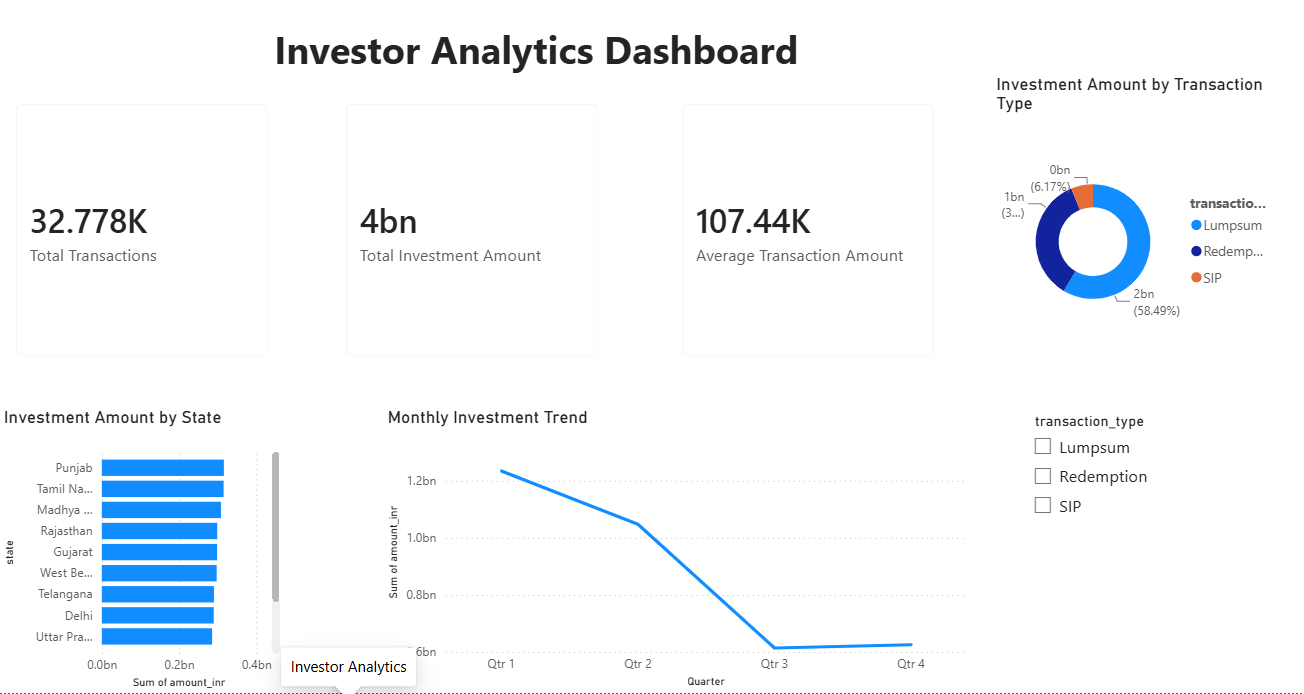

Layout of this report page (visuals, bound fields, positions):
{"tool":"powerbi","page":{"name":"Investor Analytics","canvas":[1280,720],"ordinal":2},"visuals":[{"type":"cardVisual","fields":{"Data":["CountNonNull(08_investor_transactions.amount_inr)"]},"box":[0,127.7,280,280],"z":0},{"type":"cardVisual","fields":{"Data":["Sum(08_investor_transactions.amount_inr)"]},"box":[323.1,127.7,280,280],"z":1000},{"type":"cardVisual","fields":{"Data":["Avg(08_investor_transactions.amount_inr)"]},"box":[652.2,127.7,280,280],"z":2000},{"type":"donutChart","title":"Investment Amount by Transaction Type","fields":{"Category":["08_investor_transactions.transaction_type"],"Y":["Sum(08_investor_transactions.amount_inr)"]},"box":[970.7,114.2,280,280],"z":3000},{"type":"clusteredBarChart","title":"Investment Amount by State","fields":{"Category":["08_investor_transactions.state"],"Y":["Sum(08_investor_transactions.amount_inr)"]},"box":[0,440.3,280,280],"z":4000},{"type":"lineChart","title":"Monthly Investment Trend","fields":{"Y":["Sum(08_investor_transactions.amount_inr)"],"Category":["08_investor_transactions.transaction_date.Variation.Date Hierarchy.Year","08_investor_transactions.transaction_date.Variation.Date Hierarchy.Quarter","08_investor_transactions.transaction_date.Variation.Date Hierarchy.Month","08_investor_transactions.transaction_date.Variation.Date Hierarchy.Day"]},"box":[375.7,440.3,575.5,279.5],"z":5000},{"type":"slicer","fields":{"Values":["08_investor_transactions.transaction_type"]},"box":[1000.8,440.3,280,280],"z":6000},{"type":"textbox","box":[100.7,60.1,850.5,67.6],"z":7000}]}

Visuals, with their boxes on the page's 1280x720 design canvas (x1, y1, x2, y2). These are canvas units, not pixel positions in the 1304x694 screenshot, which may show the page scaled, cropped or inside an application window:
cardVisual - CountNonNull(08_investor_transactions.amount_inr): box=[0, 128, 280, 408]
cardVisual - Sum(08_investor_transactions.amount_inr): box=[323, 128, 603, 408]
cardVisual - Avg(08_investor_transactions.amount_inr): box=[652, 128, 932, 408]
"Investment Amount by Transaction Type" donutChart: box=[971, 114, 1251, 394]
"Investment Amount by State" clusteredBarChart: box=[0, 440, 280, 720]
"Monthly Investment Trend" lineChart: box=[376, 440, 951, 720]
slicer - 08_investor_transactions.transaction_type: box=[1001, 440, 1281, 720]
textbox: box=[101, 60, 951, 128]
